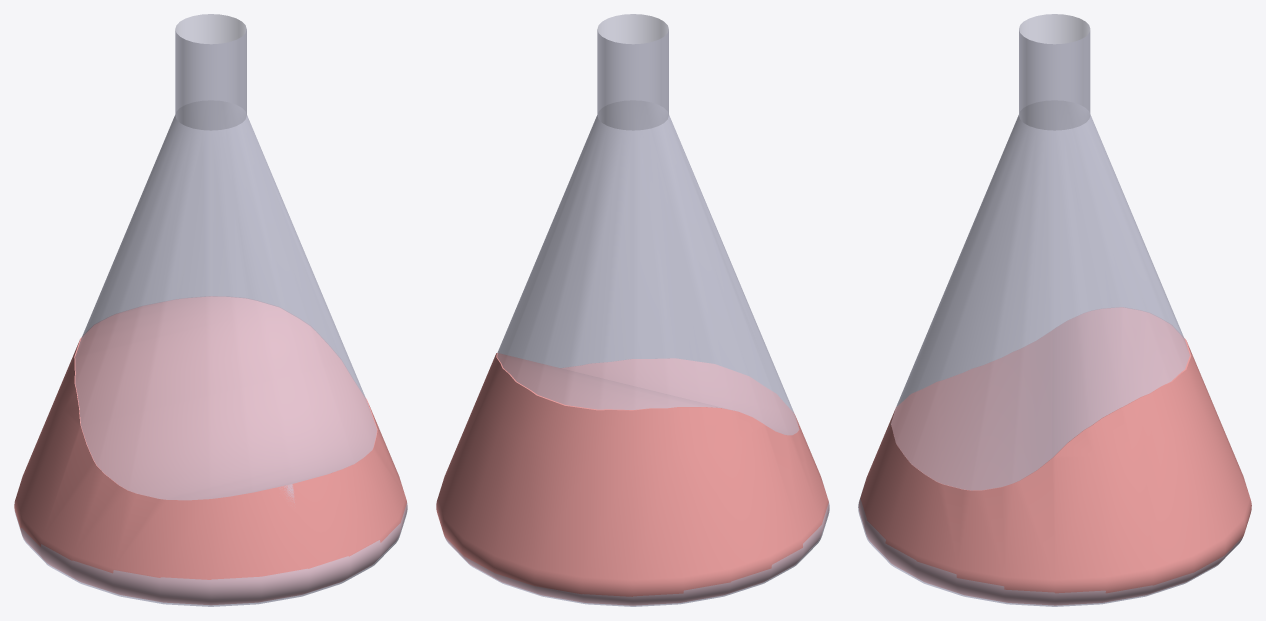
Rendered from Erlenmeyer.dae.
The picture shows the model from 3 angles, left to right: view 1: azimuth 30°, elevation 25°; view 2: azimuth 150°, elevation 25°; view 3: azimuth 270°, elevation 25°; orthographic projection.
Parts seen in each view (by area): view 1: Erlenmeyer_flask_007, Compound_001; view 2: Compound_001, Erlenmeyer_flask_007; view 3: Compound_001, Erlenmeyer_flask_007.
Part boxes in pixels (x1=…): Erlenmeyer_flask_007: x1=14, y1=14, x2=407, y2=606; Compound_001: x1=14, y1=296, x2=407, y2=604; Compound_001: x1=436, y1=353, x2=828, y2=605; Erlenmeyer_flask_007: x1=444, y1=14, x2=829, y2=606; Compound_001: x1=859, y1=307, x2=1251, y2=605; Erlenmeyer_flask_007: x1=858, y1=14, x2=1242, y2=606.
Bounding box in the file's own units: 0.1753 × 0.1755 × 0.2478.
